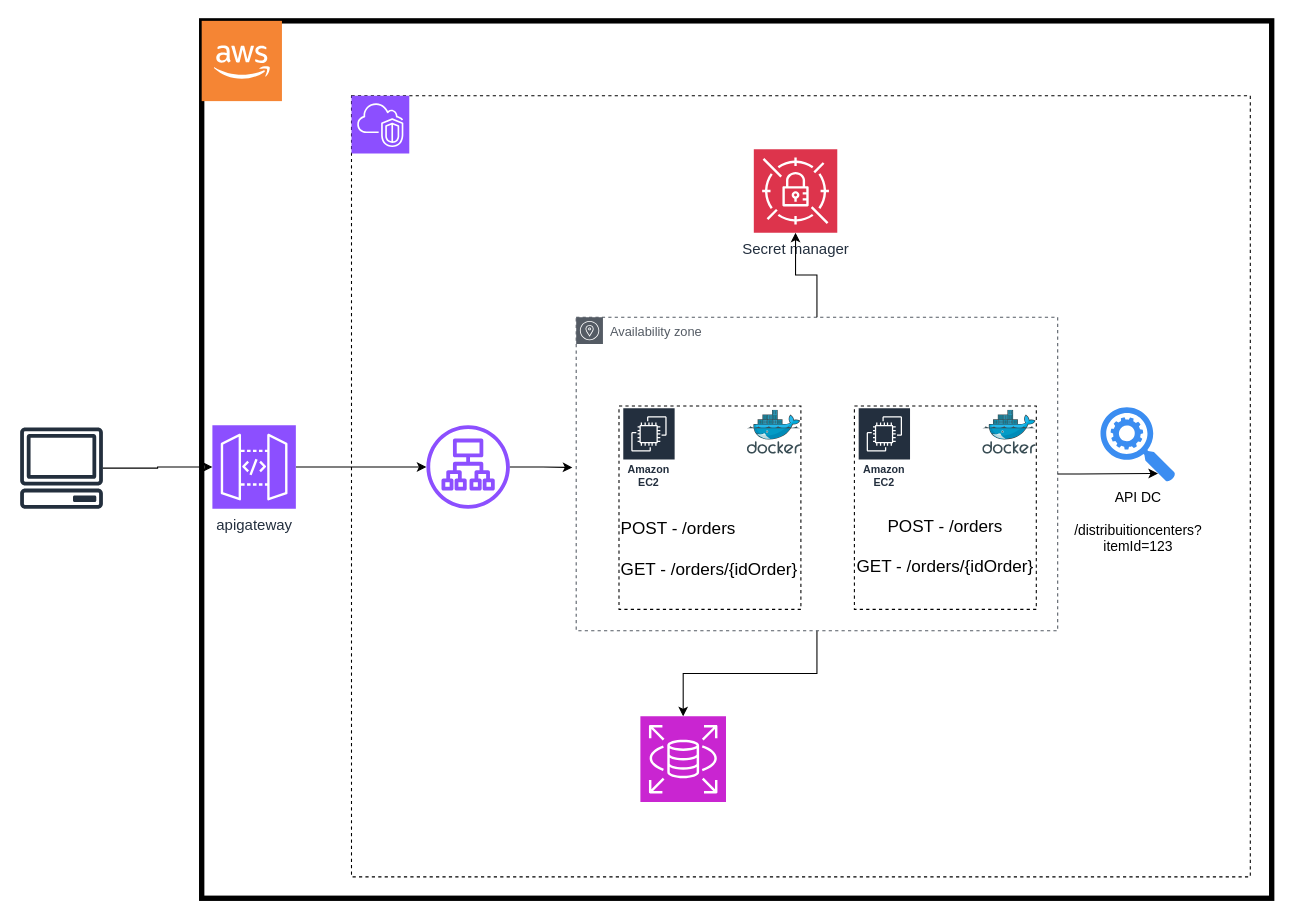
The diagram is 1293 pixels wide and 919 high, and some of its shapes have lost their labels. Here are the shapes that lost their labels. From the top down, the centre of each, then its label:
(x=379, y=124): VPC
(x=61, y=467): client server
(x=467, y=466): ALB
(x=682, y=758): Orders DB
